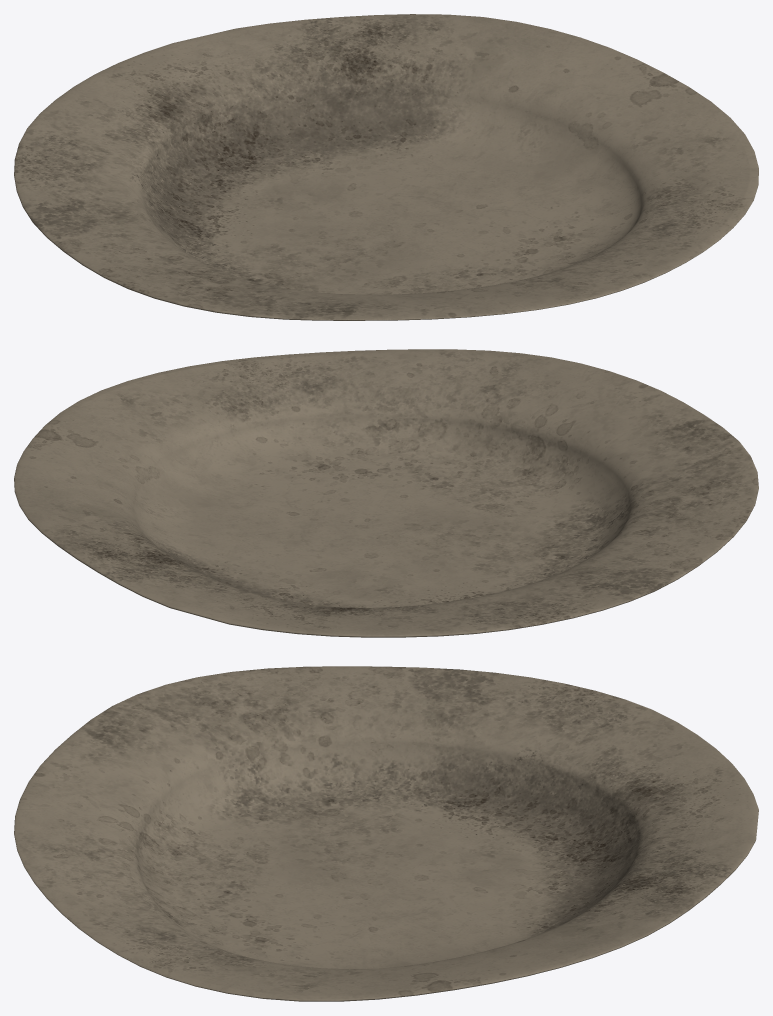
File: PewterPlate.fbx
3 renders of one model, top to bottom at view 1: azimuth 30°, elevation 25°; view 2: azimuth 150°, elevation 25°; view 3: azimuth 270°, elevation 25°, orthographic. The views are drawn at different scales.
Parts seen in each view (by area): view 1: Pewter_Plate; view 2: Pewter_Plate; view 3: Pewter_Plate.
Part boxes in pixels (x1,y1,x2,y2): Pewter_Plate: (14,14,758,320); Pewter_Plate: (14,349,758,637); Pewter_Plate: (14,666,758,1001).
Size of the model in its own units: 12.54 by 1.37 by 12.14.
